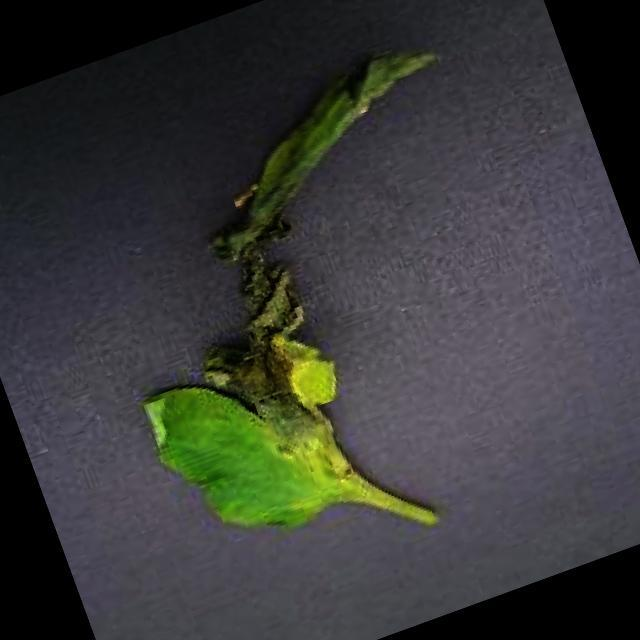Tomato late blight leaf: (46, 22, 580, 572)
